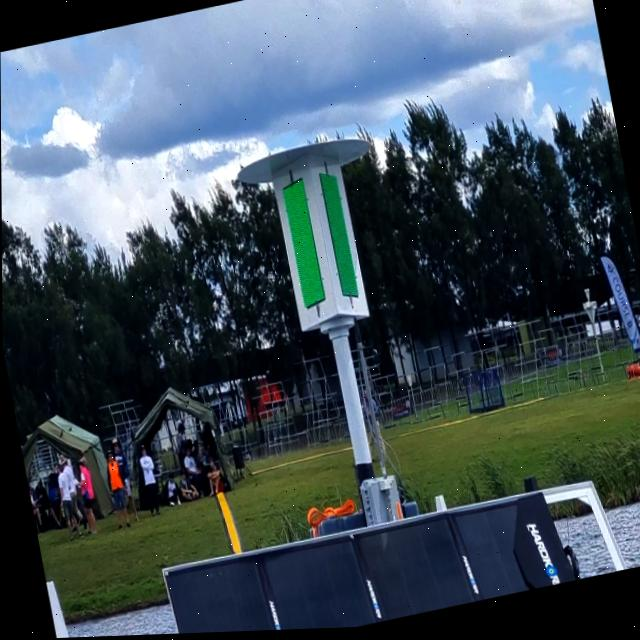led: (276, 171, 331, 317), (312, 158, 363, 314)
